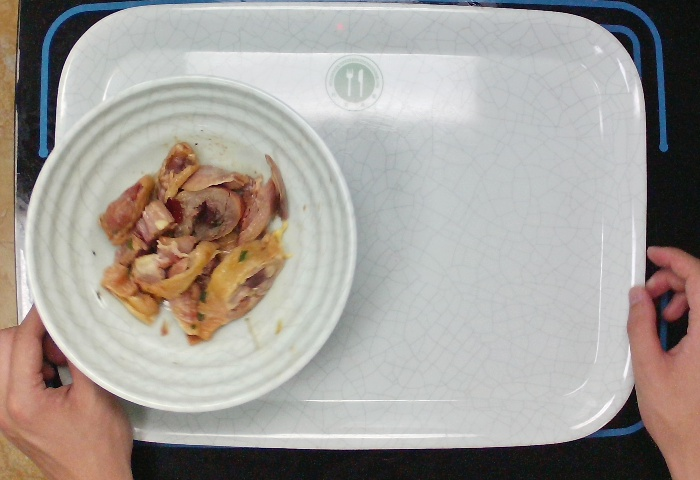JYsf-Da_Tang_Wan: (21, 69, 362, 418)
